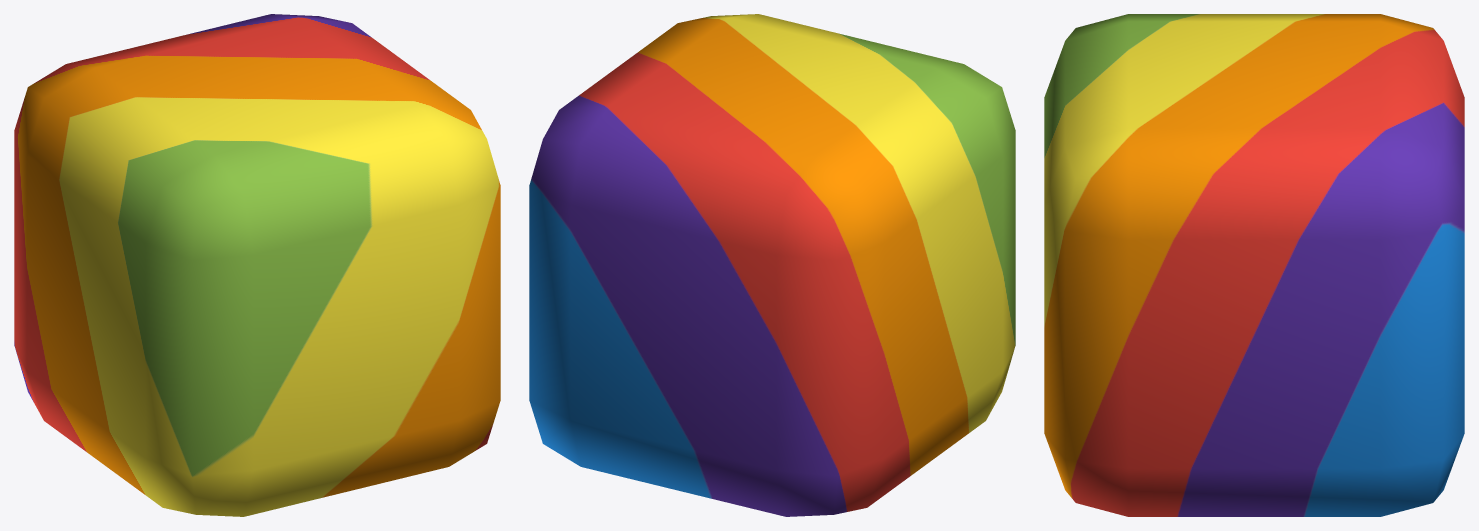
File: Block.fbx
The picture shows the model from 3 angles, left to right: view 1: azimuth 30°, elevation 25°; view 2: azimuth 150°, elevation 25°; view 3: azimuth 270°, elevation 25°; orthographic projection. The views are drawn at different scales.
Parts seen in each view (by area): view 1: Block; view 2: Block; view 3: Block.
Boxes of the visible parts, bbox=[...] form: Block: bbox=[14, 14, 500, 516]; Block: bbox=[529, 14, 1015, 516]; Block: bbox=[1044, 14, 1464, 516].
Size of the model in its own units: 100 by 100 by 100.
